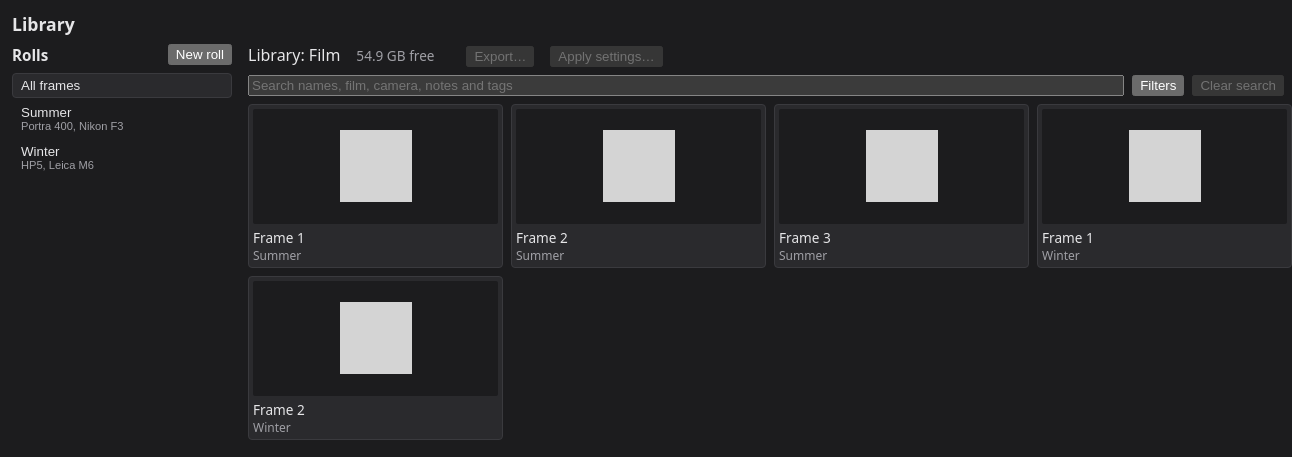
Test: search, filters and tags in the Library view › the search box › shows what the backend refuses
Type "x" into the search field at (686, 86), box [248,75,1124,96]
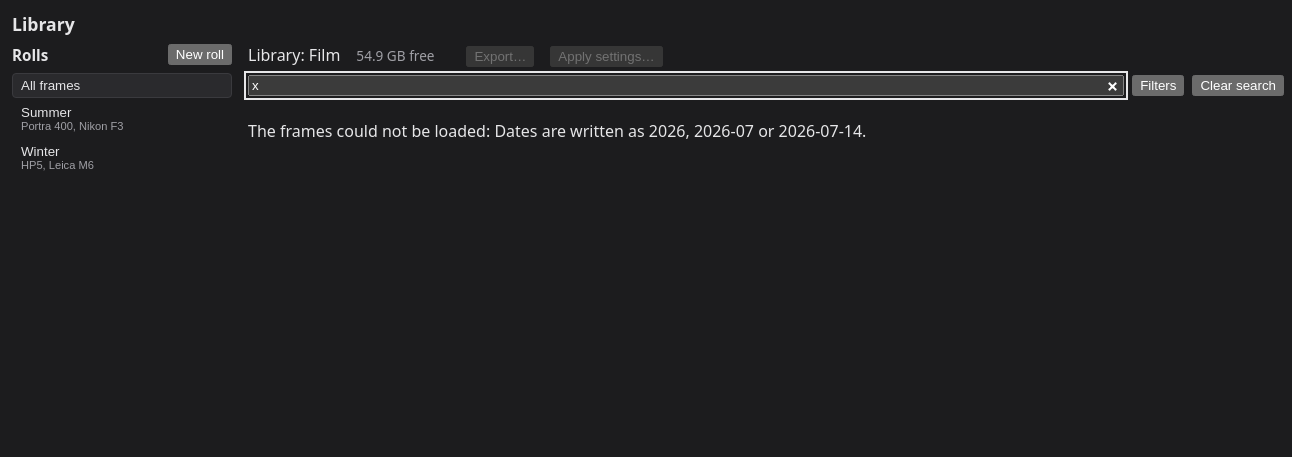
Now the message shows "Dates are written as", box [248,120,866,142]
